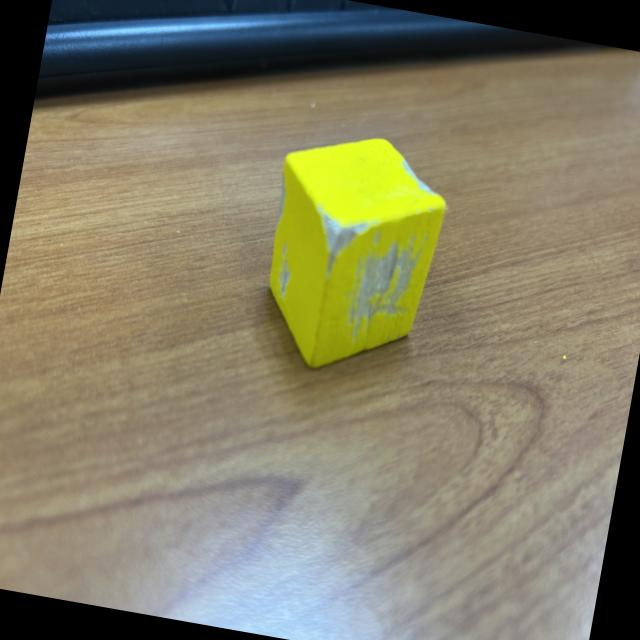broken: (249, 120, 457, 387)
